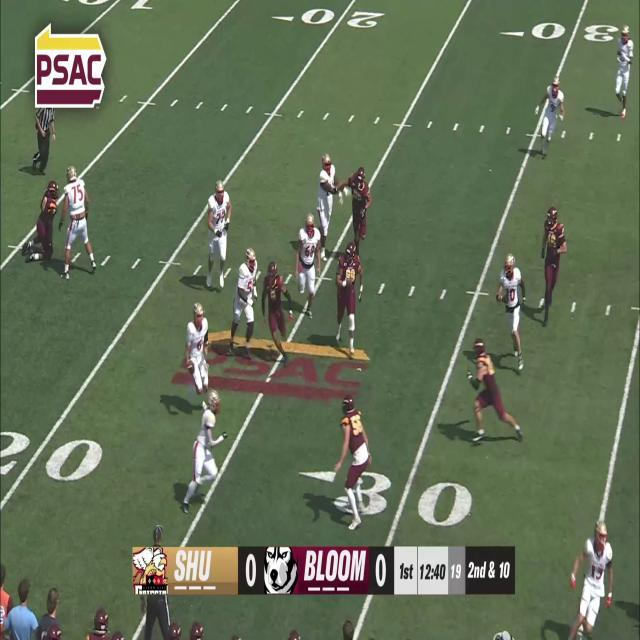football: (186, 359, 196, 374)
